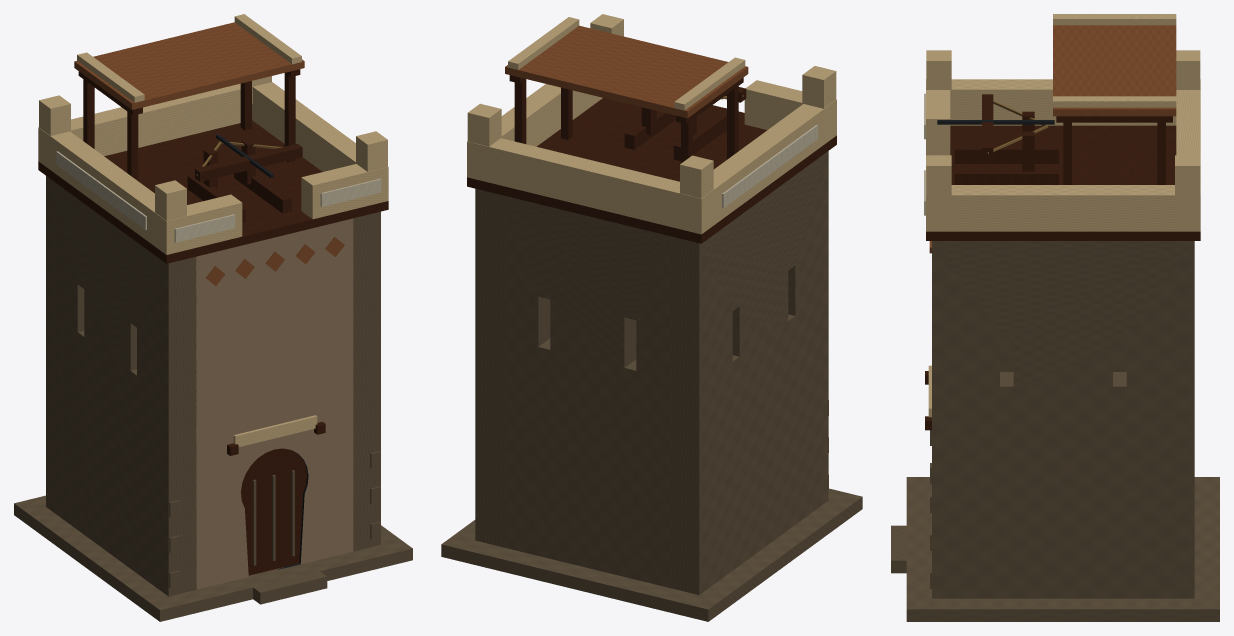
The model's file is Berber_Outpost_Age4_springald_stone.fbx.
3 renders of one model, left to right at view 1: azimuth 30°, elevation 25°; view 2: azimuth 150°, elevation 25°; view 3: azimuth 270°, elevation 25°, orthographic. The views are drawn at different scales.
Visible parts, largest first — view 1: fortified_stone_side, fortified_stone_face, lookout_floor, tower_foundation, fitted_flat_canopy, fortified_stone_side.001, lookout_parapet_back, horseshoe_door.001, lookout_parapet_side, lookout_parapet_side.001, lookout_parapet_front.001, lookout_parapet_front (+17 smaller); view 2: fortified_stone_face.001, fortified_stone_side, tower_foundation, lookout_parapet_back, lookout_floor, fitted_flat_canopy, fortified_stone_side.001, lookout_parapet_side, lookout_parapet_side.001, lookout_parapet_front, neutral_owner_side_band, corner_merlon.003 (+9 smaller); view 3: fortified_stone_side.001, tower_foundation, lookout_floor, lookout_parapet_side.001, fitted_flat_canopy, lookout_parapet_side, lookout_parapet_back, springald_stock_runner.001, springald_stock_runner, lookout_parapet_front, stone_crown_coping.001, stone_crown_coping (+13 smaller).
Part boxes in pixels (x1,y1,x2,y2): fortified_stone_side: (46,176,196,596); fortified_stone_face: (196,218,353,589); lookout_floor: (38,120,388,263); tower_foundation: (14,495,412,621); fitted_flat_canopy: (74,22,304,109); fortified_stone_side.001: (352,211,380,551); lookout_parapet_back: (38,83,240,168); horseshoe_door.001: (241,448,306,575); lookout_parapet_side: (49,131,160,248); lookout_parapet_side.001: (252,82,355,171); lookout_parapet_front.001: (301,164,388,219); lookout_parapet_front: (155,194,242,254); fortified_stone_face.001: (504,196,670,587); fortified_stone_side: (669,151,828,594); tower_foundation: (441,488,862,621); lookout_parapet_back: (467,138,713,234); lookout_floor: (467,98,836,243); fitted_flat_canopy: (505,25,748,118); fortified_stone_side.001: (475,188,504,547); lookout_parapet_side: (713,104,830,225); lookout_parapet_side.001: (501,84,602,146); lookout_parapet_front: (744,80,836,143); neutral_owner_side_band: (722,125,817,207); corner_merlon.003: (467,103,501,146); fortified_stone_side.001: (932,241,1194,598); tower_foundation: (906,477,1219,621); lookout_floor: (926,125,1200,240); lookout_parapet_side.001: (938,185,1187,231); fitted_flat_canopy: (1053,25,1176,116); lookout_parapet_side: (950,79,1176,125); lookout_parapet_back: (1176,79,1200,231); springald_stock_runner.001: (954,169,1058,184); springald_stock_runner: (954,145,1058,163); lookout_parapet_front: (926,79,950,155); stone_crown_coping.001: (1053,96,1176,107); stone_crown_coping: (1053,14,1176,25).
Bounding box in the file's own units: 360 × 632 × 378.
7 materials, 7 textured.
